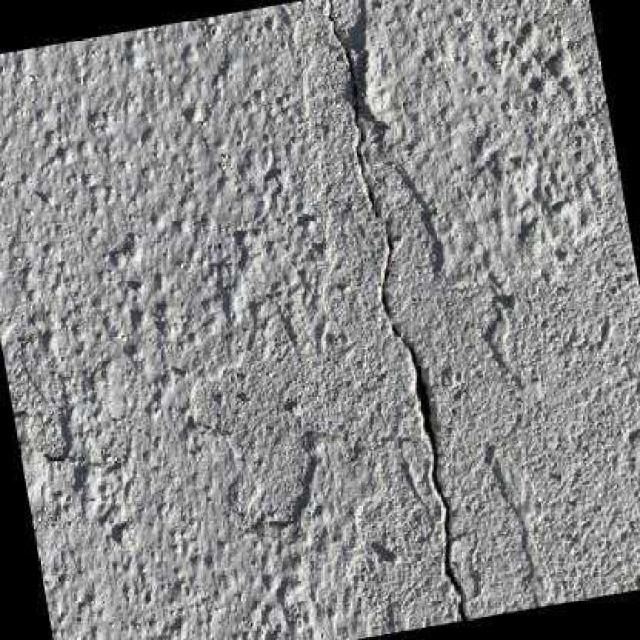D00: (318, 0, 470, 621)
